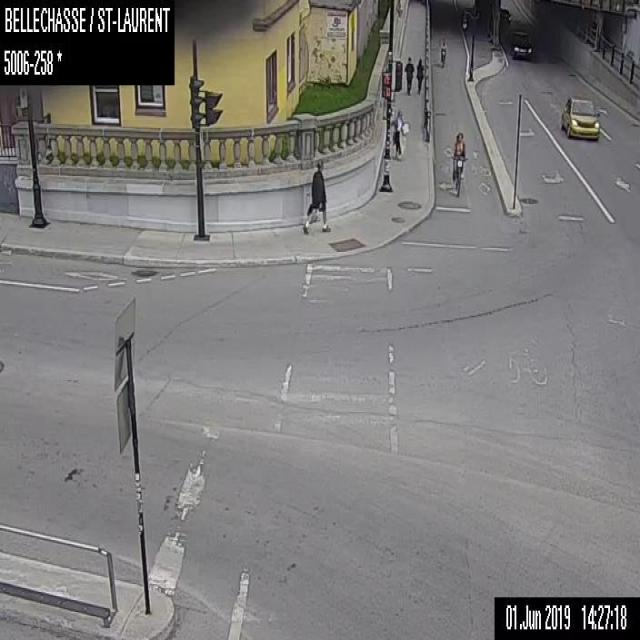cyclist: (450, 130, 465, 194), (439, 40, 446, 66)
pedestrian: (302, 157, 330, 236), (391, 109, 408, 159), (404, 55, 414, 94), (416, 56, 424, 93)
vehicle: (560, 96, 599, 139), (509, 30, 531, 58), (499, 8, 511, 24)
